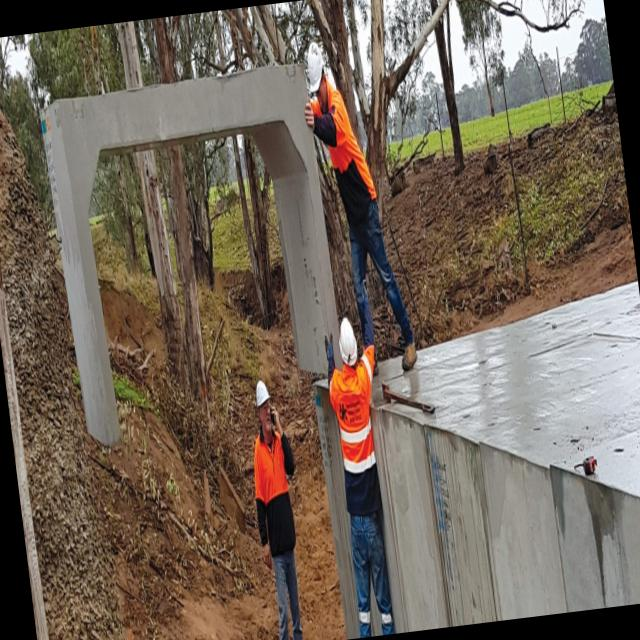cement: (43, 64, 338, 443), (372, 283, 640, 633)
red-sand: (383, 110, 637, 348), (84, 401, 278, 640), (290, 435, 346, 640)
